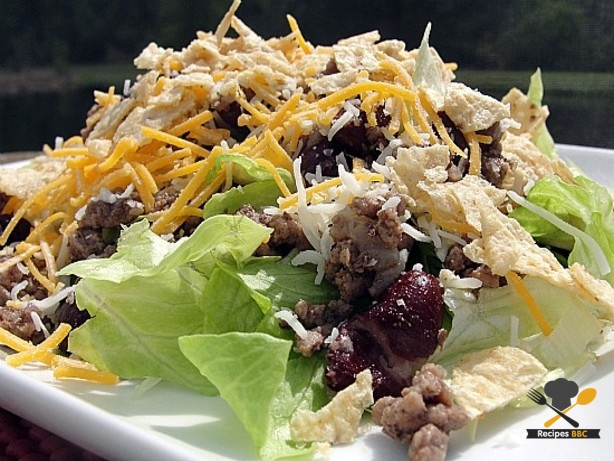chopped lettuce: (112, 254, 316, 391)
